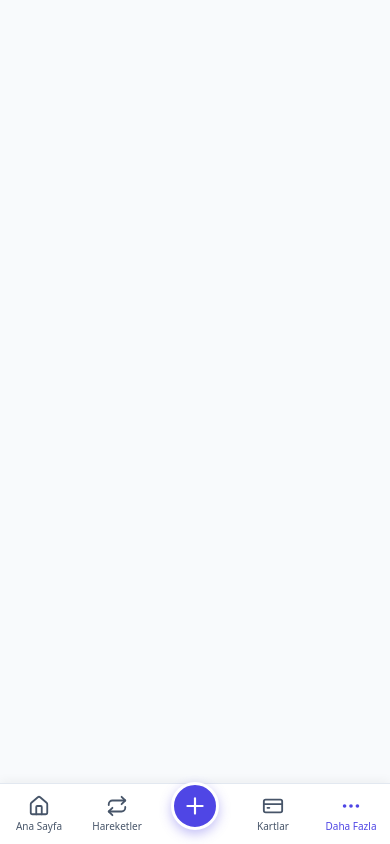
Test: F6 Navigation & Quick Entry Templates — More Hub, Desktop & Obligation Templates › renders MobileNav with active state on /people and opens accessible More Hub
This screenshot has width=390, height=844.
// Open More Hub
Click the button with test id "mobile-nav-more" at (351, 814), box [312,784,389,843]
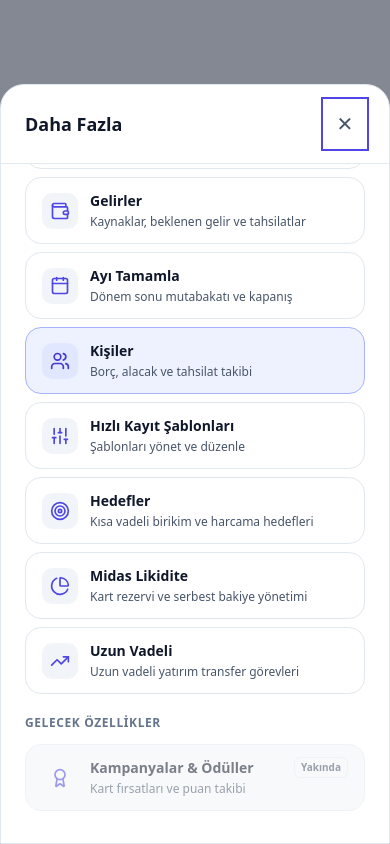
Now the element with test id "more-hub-sheet" is shown
